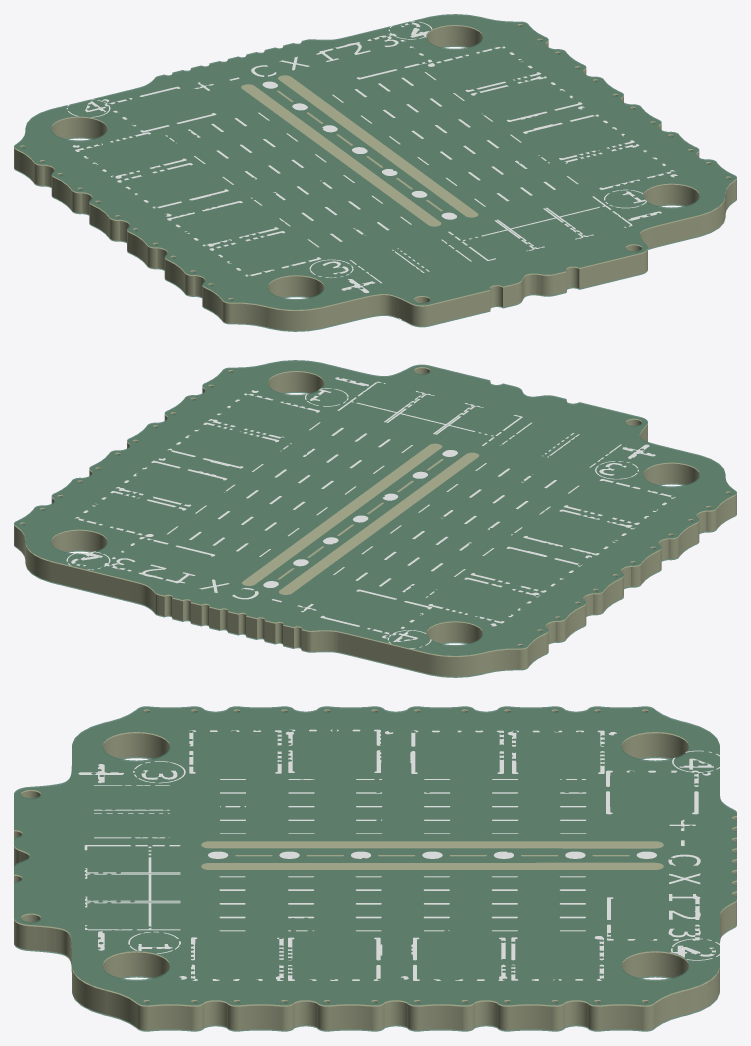
Rendered from esc-board.glb.
The picture shows the model from 3 angles, top to bottom: view 1: azimuth 30°, elevation 25°; view 2: azimuth 150°, elevation 25°; view 3: azimuth 270°, elevation 25°; orthographic projection. The views are drawn at different scales.
Visible parts, largest first — view 1: =>[0:1:1:6], =>[0:1:1:4], =>[0:1:1:2], =>[0:1:1:5]; view 2: =>[0:1:1:6], =>[0:1:1:4], =>[0:1:1:2], =>[0:1:1:5]; view 3: =>[0:1:1:6], =>[0:1:1:4], =>[0:1:1:2], =>[0:1:1:5].
Part boxes in pixels (x1=…): =>[0:1:1:6]: x1=14, y1=16, x2=736, y2=330; =>[0:1:1:4]: x1=14, y1=14, x2=736, y2=309; =>[0:1:1:2]: x1=66, y1=21, x2=677, y2=292; =>[0:1:1:5]: x1=14, y1=45, x2=736, y2=331; =>[0:1:1:6]: x1=14, y1=362, x2=736, y2=676; =>[0:1:1:4]: x1=14, y1=360, x2=736, y2=655; =>[0:1:1:2]: x1=66, y1=377, x2=675, y2=648; =>[0:1:1:5]: x1=14, y1=391, x2=736, y2=677; =>[0:1:1:6]: x1=14, y1=708, x2=736, y2=1030; =>[0:1:1:4]: x1=14, y1=706, x2=736, y2=1005; =>[0:1:1:2]: x1=78, y1=729, x2=719, y2=980; =>[0:1:1:5]: x1=14, y1=756, x2=736, y2=1031.
Size of the model in its own units: 0.0416 by 0.00175 by 0.0425.
